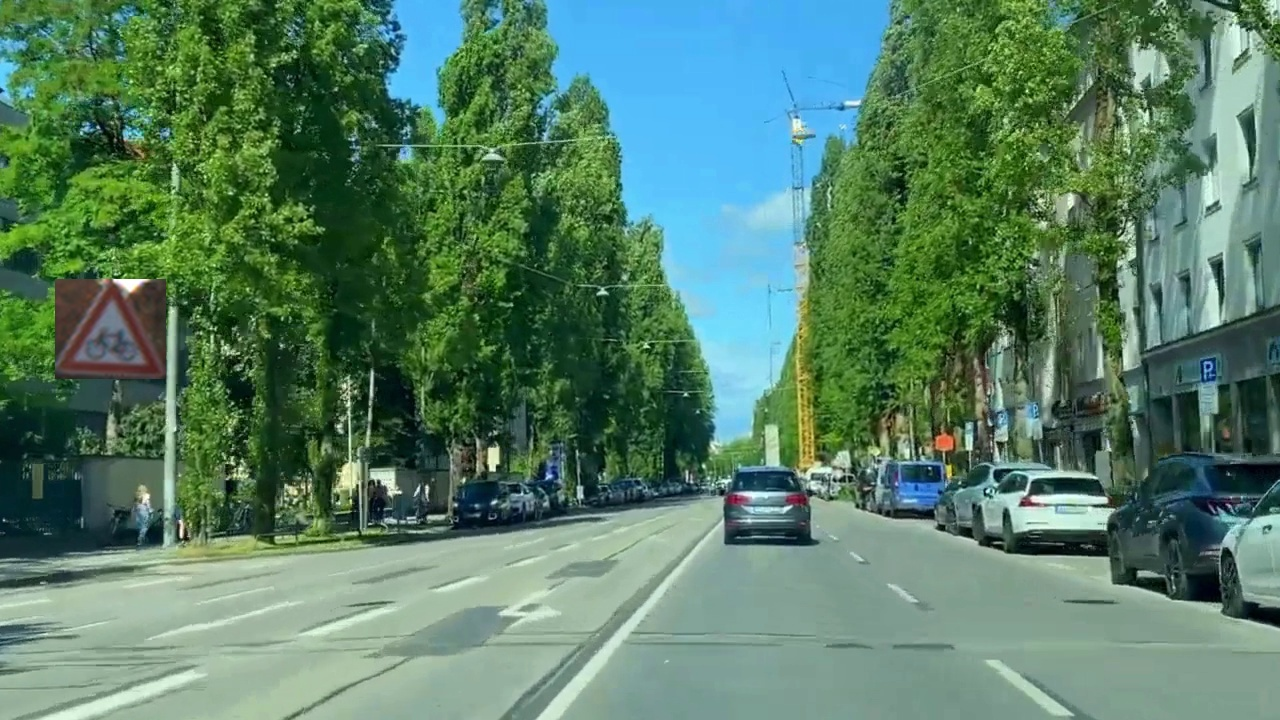Bicycles: (55, 279, 166, 379)
